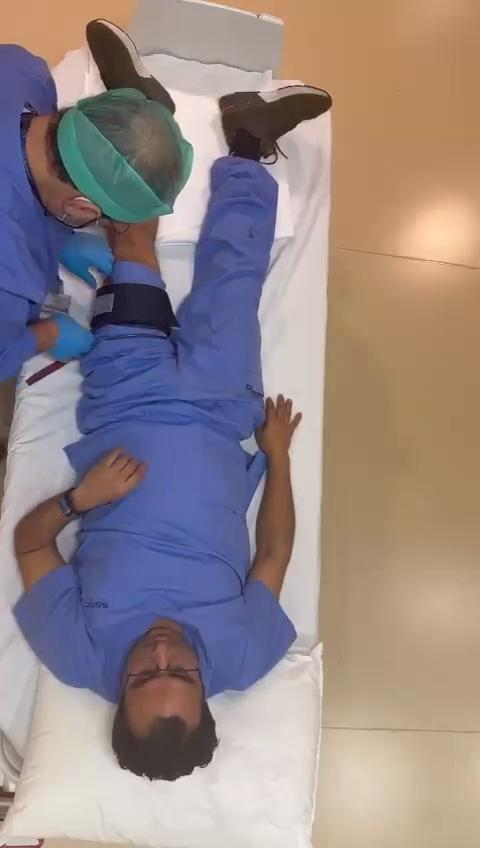patient: (15, 88, 330, 780)
tourniquet: (91, 283, 179, 334)
